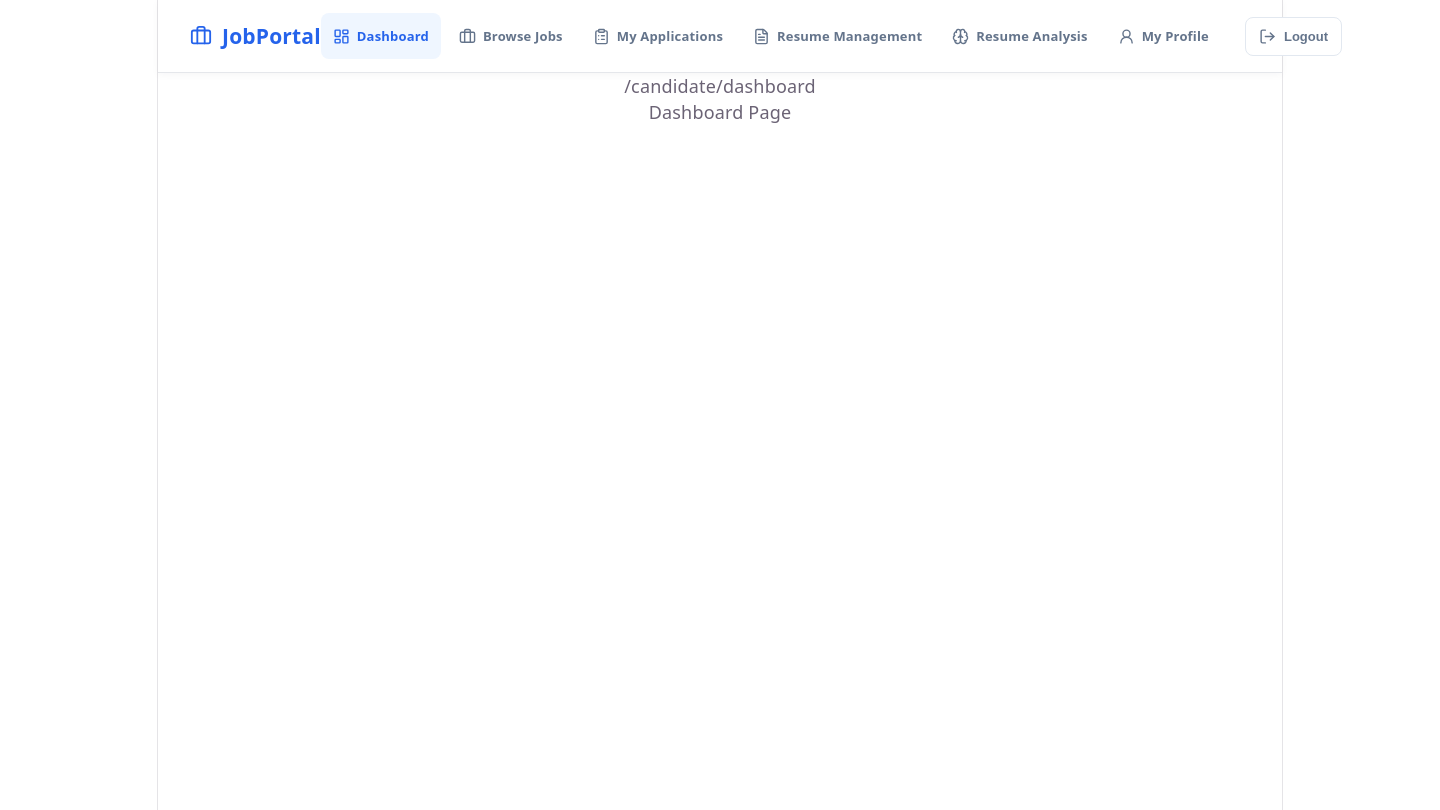
Test: CandidateNavbar › navigates to Browse Jobs
Click the link "Browse Jobs": coordinates (511, 36) [459, 27, 563, 45]
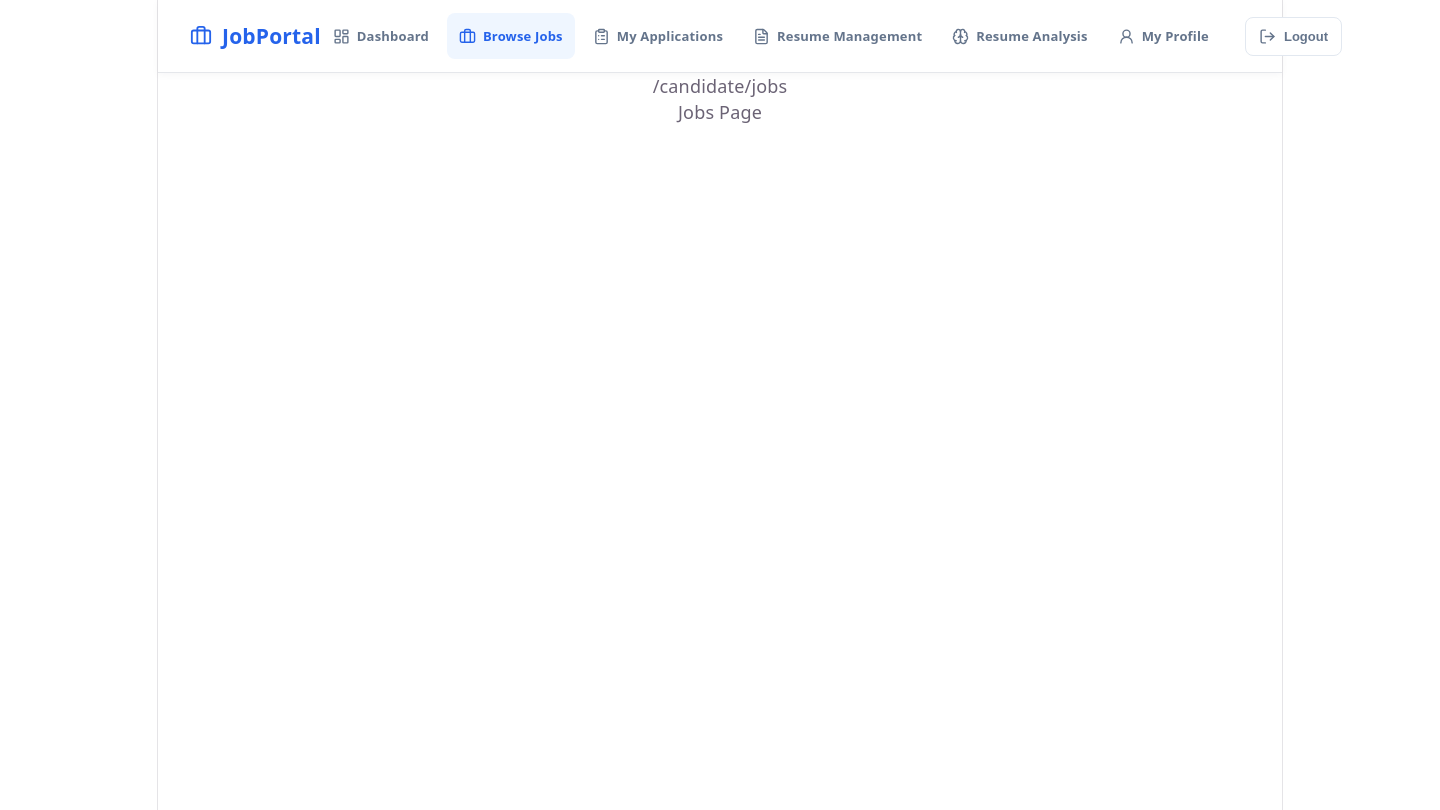
expect the text with test id "current-location" reads "/candidate/jobs": met, box [653, 74, 787, 98]
expect the text "Jobs Page" is shown: met, box [678, 100, 762, 124]
